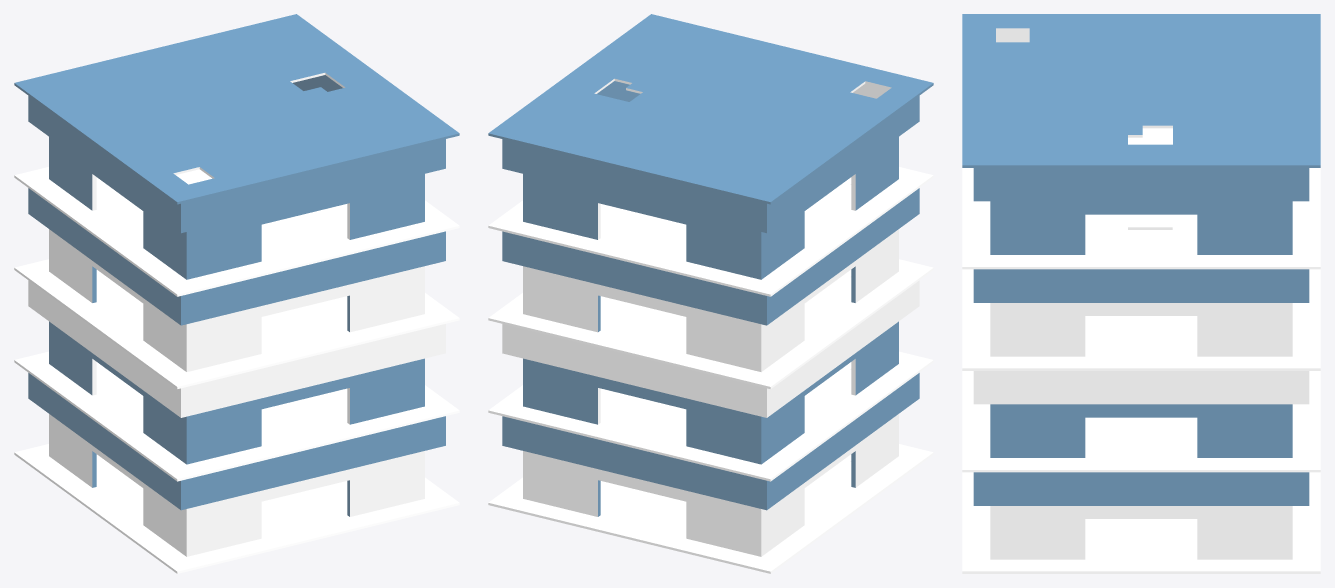
The model's file is StudzDragon_NewNeons.gltf.
3 renders of one model, left to right at view 1: azimuth 30°, elevation 25°; view 2: azimuth 150°, elevation 25°; view 3: azimuth 270°, elevation 25°, orthographic. The views are drawn at different scales.
Visible parts, largest first — view 1: Building.007, Wall Outline.009, Wall Outline.011, Wall Outline.010, Wall Outline.008; view 2: Building.007, Wall Outline.009, Wall Outline.010, Wall Outline.011, Wall Outline.008; view 3: Building.007, Wall Outline.008, Wall Outline.010, Wall Outline.009, Wall Outline.011.
Part boxes in pixels (x1,y1,x2,y2): Building.007: (14,14,459,573); Wall Outline.009: (28,280,445,417); Wall Outline.011: (28,96,445,233); Wall Outline.010: (28,188,445,325); Wall Outline.008: (28,373,445,510); Building.007: (488,14,933,573); Wall Outline.009: (502,280,919,417); Wall Outline.010: (502,188,919,325); Wall Outline.011: (502,96,919,233); Wall Outline.008: (502,373,919,510); Building.007: (962,14,1320,573); Wall Outline.008: (973,472,1309,505); Wall Outline.010: (973,269,1309,302); Wall Outline.009: (973,371,1309,404); Wall Outline.011: (973,168,1309,201).
Size of what is drawn, in the model's own units: 32 by 40.25 by 32.
